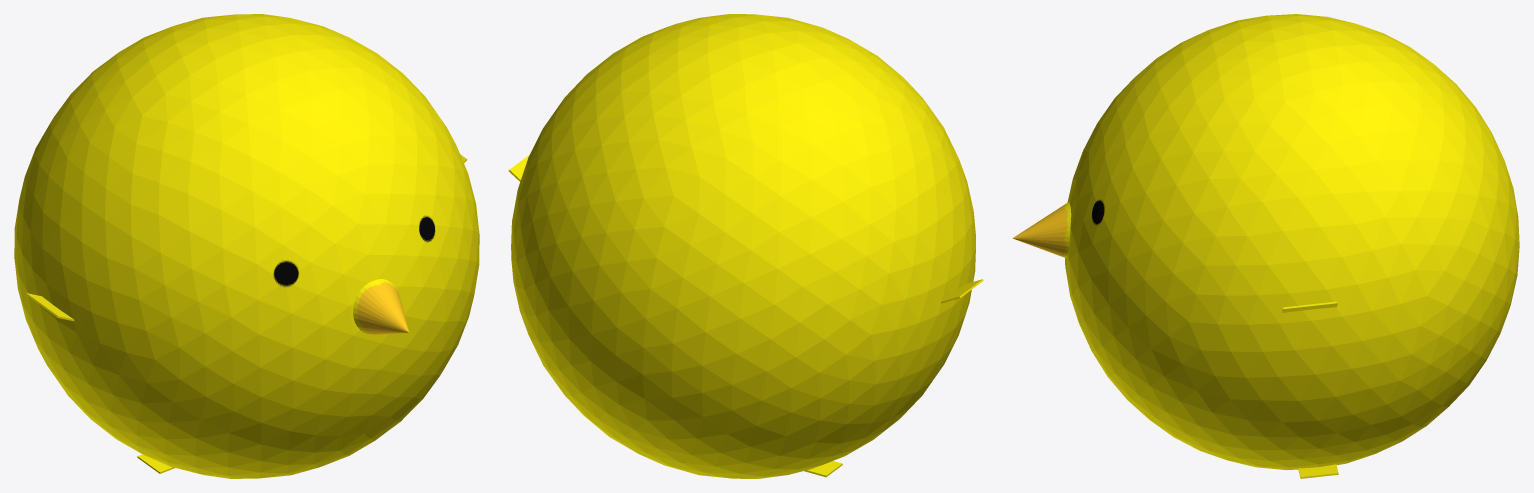
The model's file is hiyo.glb.
3 renders of one model, left to right at view 1: azimuth 30°, elevation 25°; view 2: azimuth 150°, elevation 25°; view 3: azimuth 270°, elevation 25°, orthographic. The views are drawn at different scales.
Parts seen in each view (by area): view 1: node_id5; view 2: node_id5; view 3: node_id5.
Part boxes in pixels (left/top/right/bottom): node_id5: left=14, top=14, right=479, bottom=478; node_id5: left=508, top=14, right=983, bottom=478; node_id5: left=1012, top=14, right=1519, bottom=478.
Size of the model in its own units: 0.5136 by 0.4755 by 0.5294.
Materials: 1 (1 with a texture image).
